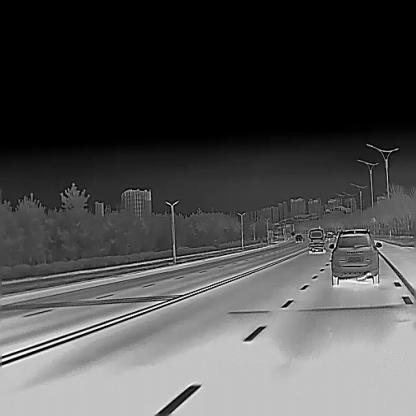car: (328, 228, 382, 284), (307, 228, 325, 254), (294, 234, 303, 242), (326, 231, 332, 239)
